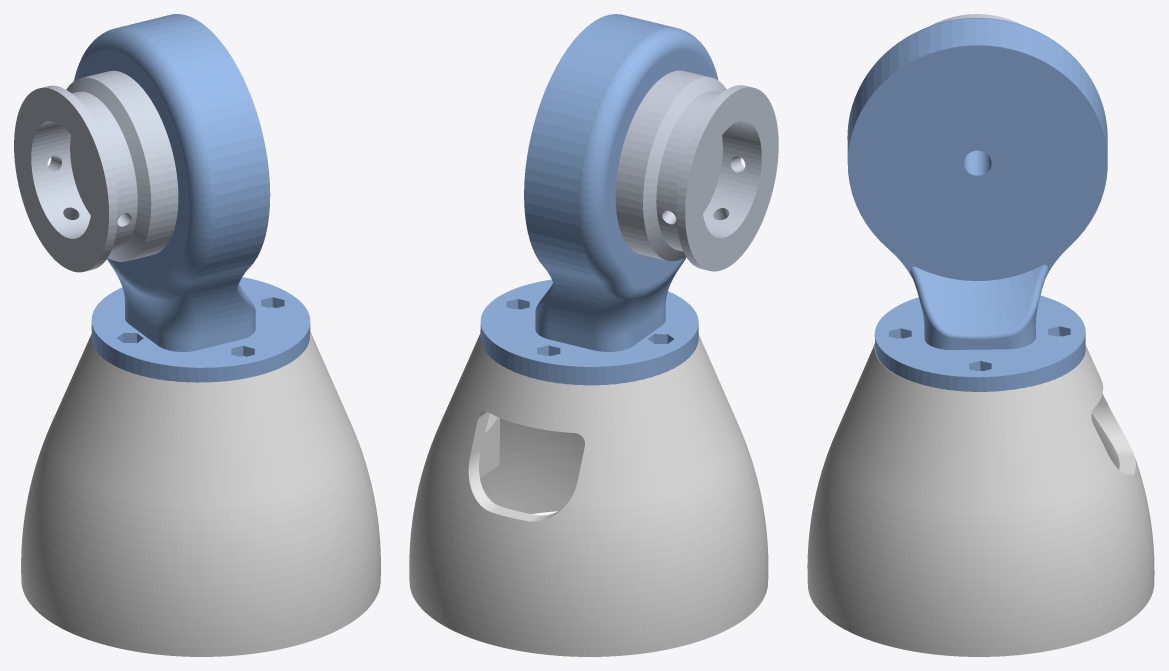
Rendered from codo_izq.dae.
3 views of the same model, side by side, from view 1: azimuth 30°, elevation 25°; view 2: azimuth 150°, elevation 25°; view 3: azimuth 270°, elevation 25° (orthographic). The views are drawn at different scales.
Visible parts, largest first — view 1: Forearm9-1-1, E5P1.001, E5P1.002; view 2: Forearm9-1-1, E5P1.001, E5P1.002; view 3: Forearm9-1-1, E5P1.001.
Part boxes in pixels (x1,y1,x2,y2): Forearm9-1-1: (21,332,380,656); E5P1.001: (74,14,310,382); E5P1.002: (14,70,178,272); Forearm9-1-1: (409,334,768,656); E5P1.001: (480,14,718,385); E5P1.002: (615,70,778,271); Forearm9-1-1: (807,344,1154,656); E5P1.001: (847,18,1107,391).
Size of the model in its own units: 0.0872 by 0.0872 by 0.1495.
